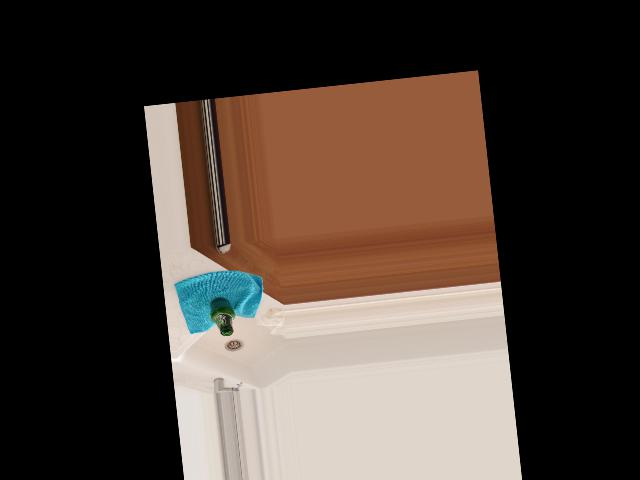beer: (209, 295, 237, 336)
